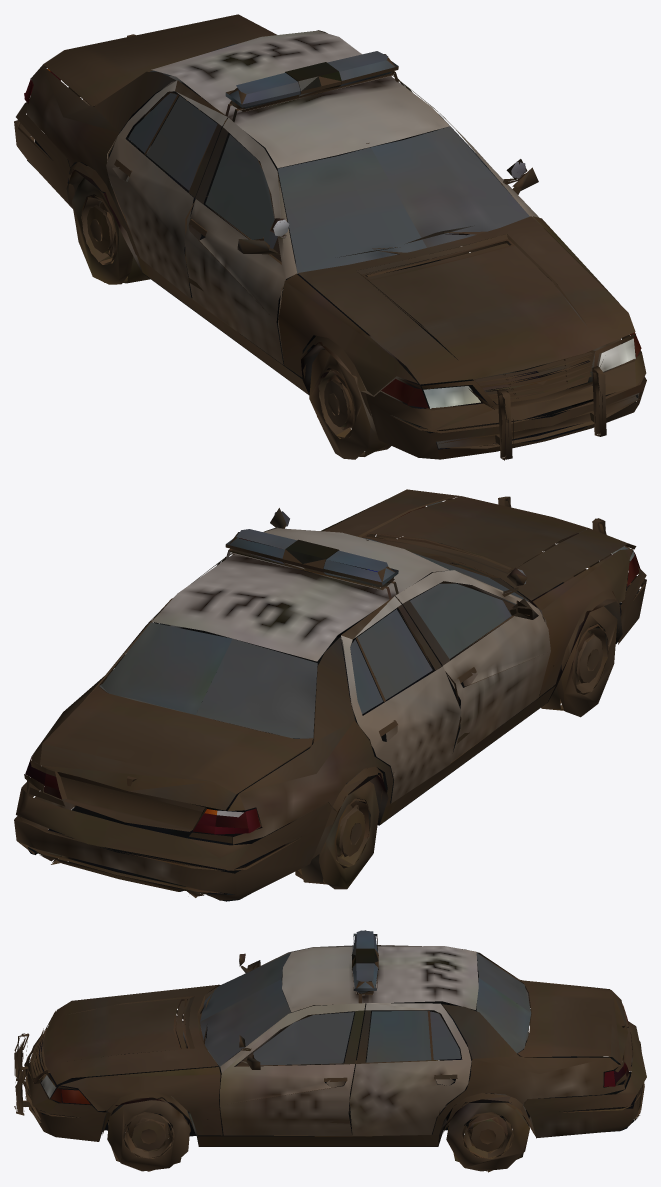
File: pack-police-L3.glb
The picture shows the model from 3 angles, top to bottom: view 1: azimuth 30°, elevation 25°; view 2: azimuth 150°, elevation 25°; view 3: azimuth 270°, elevation 25°; orthographic projection. The views are drawn at different scales.
Visible parts, largest first — view 1: body; view 2: body; view 3: body.
Boxes of the visible parts, x1=… form: body: x1=14, y1=14, x2=646, y2=460; body: x1=14, y1=489, x2=646, y2=901; body: x1=14, y1=930, x2=646, y2=1172.
Size of the model in its own units: 2 by 1.58 by 5.19.
Materials: 1 (1 with a texture image).
